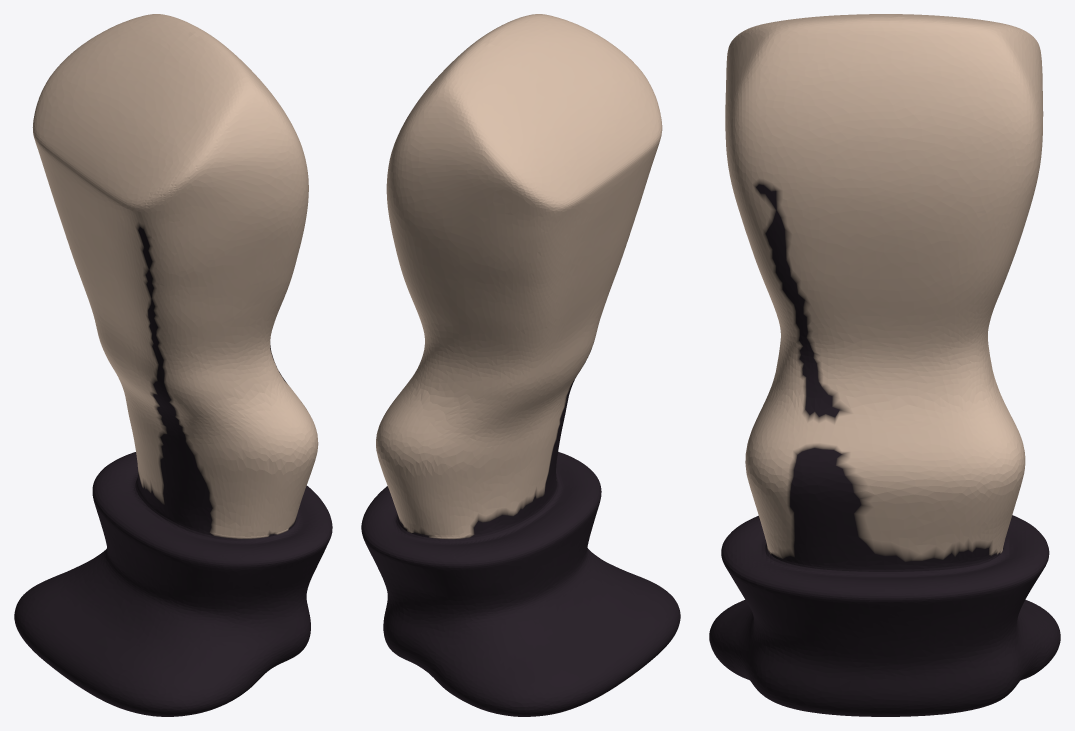
Rendered from leg_R.glb.
3 renders of one model, left to right at view 1: azimuth 30°, elevation 25°; view 2: azimuth 150°, elevation 25°; view 3: azimuth 270°, elevation 25°, orthographic. The views are drawn at different scales.
Visible parts, largest first — view 1: geometry_0; view 2: geometry_0; view 3: geometry_0.
Boxes of the visible parts, box(x1,y1,x2,y2) form: geometry_0: box(14, 14, 332, 716); geometry_0: box(361, 14, 680, 716); geometry_0: box(709, 14, 1060, 716).
Bounding box in the file's own units: 0.224 × 0.5321 × 0.2487.
